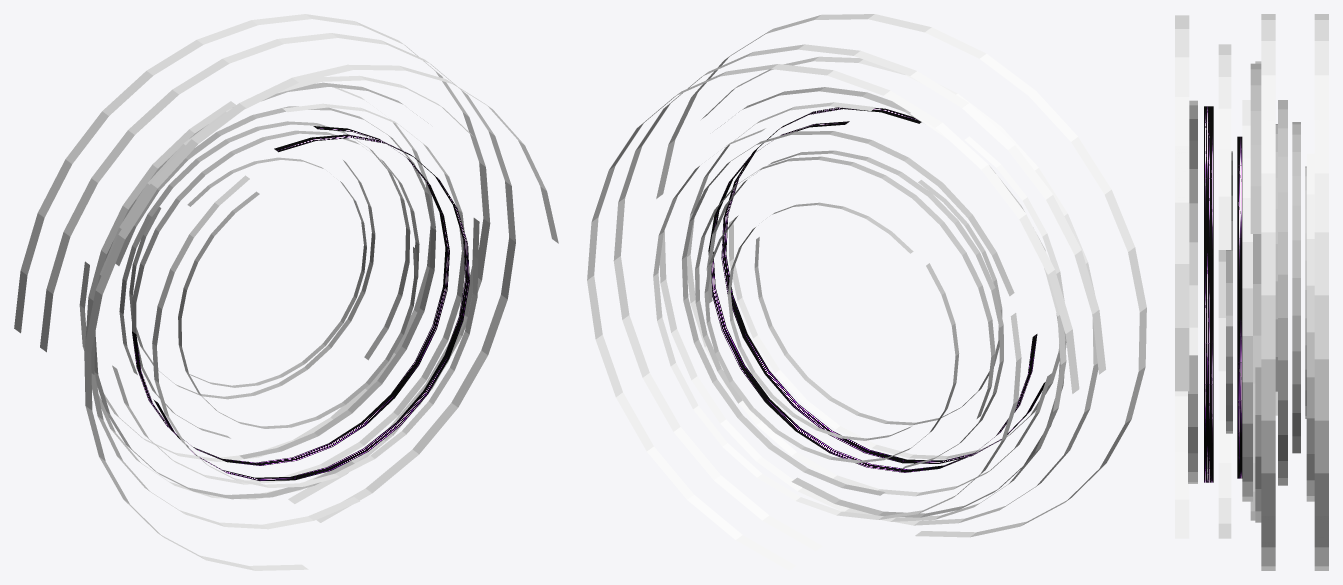
File: tx_dazhufushu_fire.obj
3 renders of one model, left to right at view 1: azimuth 30°, elevation 25°; view 2: azimuth 150°, elevation 25°; view 3: azimuth 270°, elevation 25°, orthographic. The views are drawn at different scales.
Visible parts, largest first — view 1: Plane11, Plane14, Plane17, Plane15, Plane04, Plane16, Plane13, Plane09, Plane12, Plane07, Plane03, Plane10 (+5 smaller); view 2: Plane14, Plane11, Plane17, Plane04, Plane10, Plane16, Plane15, Plane03, Plane13, Plane09, Plane07, Plane12 (+5 smaller); view 3: Plane11, Plane14, Plane17, Plane12, Plane13, Plane04, Plane06, Plane09, Plane15, Plane10, Plane03, Plane07 (+4 smaller).
Part boxes in pixels (x1,y1,x2,y2): Plane11: (40,33,515,522); Plane14: (14,14,490,503); Plane17: (84,64,558,570); Plane15: (152,175,477,487); Plane04: (115,106,436,458); Plane16: (85,101,479,499); Plane13: (112,103,464,484); Plane09: (153,134,469,480); Plane12: (91,75,473,529); Plane07: (132,126,449,465); Plane03: (119,121,410,374); Plane10: (79,87,435,461); Plane14: (587,64,1079,570); Plane11: (613,44,1105,551); Plane17: (656,14,1146,537); Plane04: (682,131,1014,495); Plane10: (653,128,1021,519); Plane16: (659,113,1066,521); Plane15: (729,136,1064,459); Plane03: (695,156,995,418); Plane13: (686,102,1052,496); Plane09: (721,107,1045,463); Plane07: (708,121,1037,472); Plane12: (701,56,1098,525); Plane11: (1261,14,1275,570); Plane14: (1314,14,1328,570); Plane17: (1175,15,1189,538); Plane12: (1218,44,1231,538); Plane13: (1242,100,1252,501); Plane04: (1278,100,1287,485); Plane06: (1250,63,1261,520); Plane09: (1204,106,1213,482); Plane15: (1188,100,1197,483); Plane10: (1306,153,1314,501); Plane03: (1292,122,1300,453); Plane07: (1237,136,1242,478).
Bounding box in the file's own units: 239 × 238 × 65.7.
